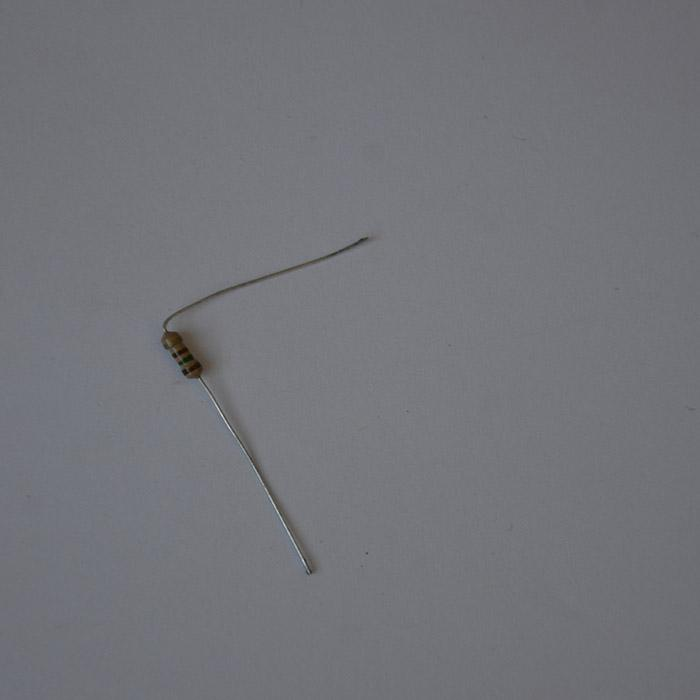resistor: (160, 330, 201, 380)
